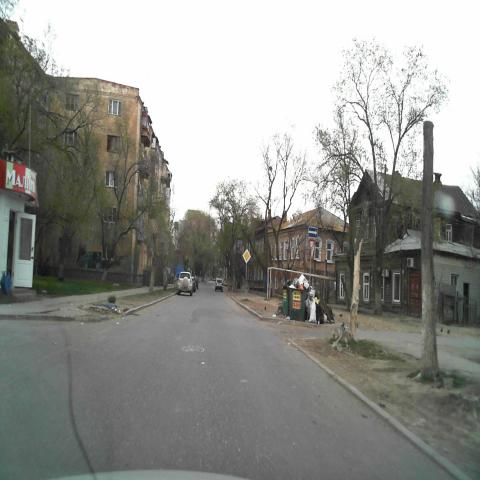5_7_1: (308, 227, 318, 239)
